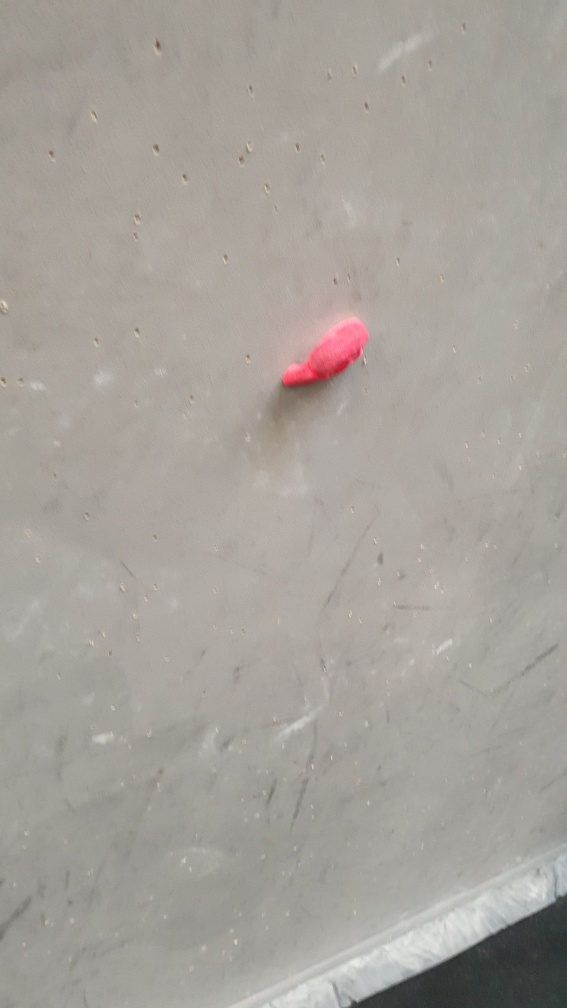Jug: (276, 316, 374, 393)
